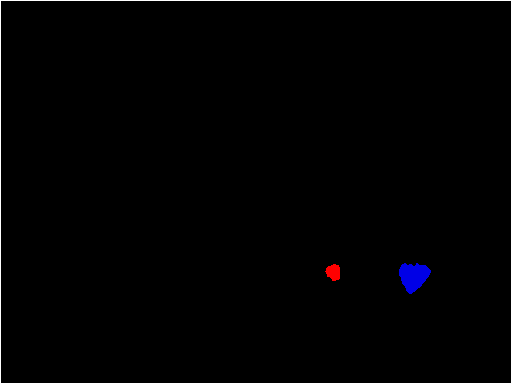chipped: (403, 264, 424, 292)
detached: (326, 264, 343, 280)
